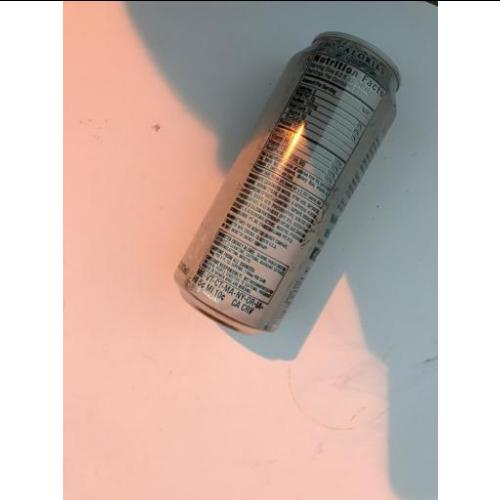metal: (178, 31, 400, 334)
